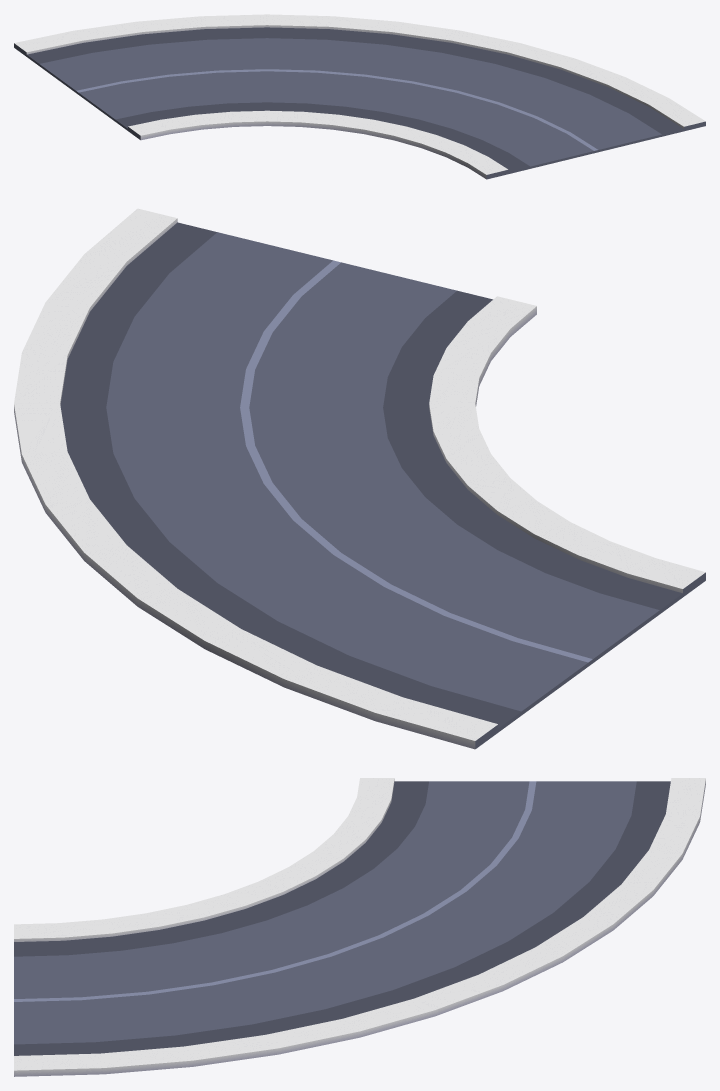
Rendered from road-curve.glb.
The picture shows the model from 3 angles, top to bottom: view 1: azimuth 30°, elevation 25°; view 2: azimuth 150°, elevation 25°; view 3: azimuth 270°, elevation 25°; orthographic projection. The views are drawn at different scales.
Visible parts, largest first — view 1: road-curve; view 2: road-curve; view 3: road-curve.
Part boxes in pixels (left/top/right/bottom): road-curve: left=14, top=14, right=705, bottom=179; road-curve: left=14, top=208, right=705, bottom=749; road-curve: left=14, top=778, right=705, bottom=1076.
Size of the model in its own units: 2 by 0.02 by 2.
1 material, 1 textured.
